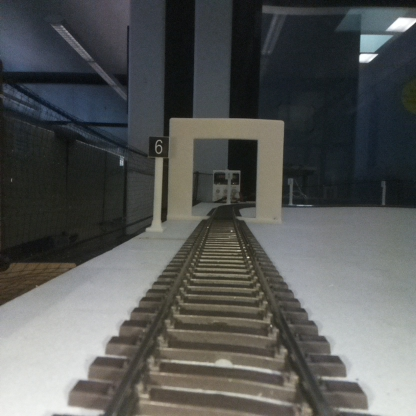black-info-6: (148, 136, 169, 228)
